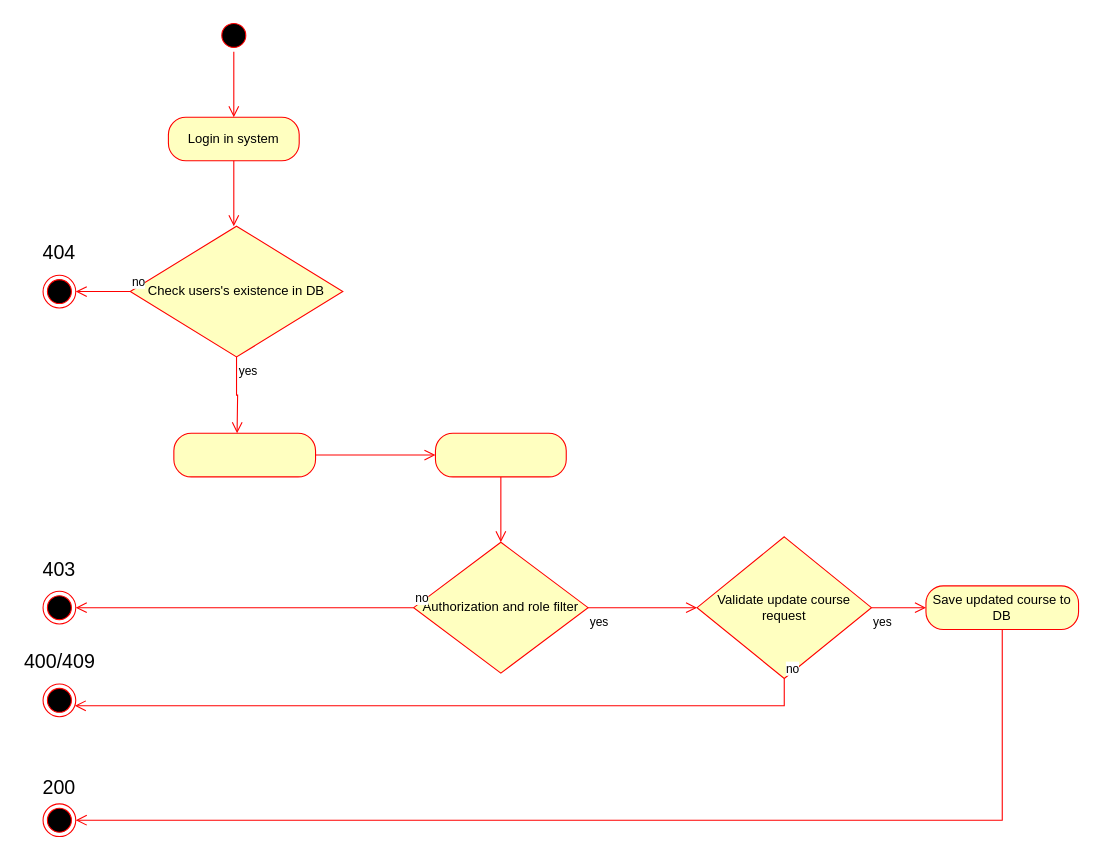
The diagram is 1098 pixels wide and 856 high, and some of its shapes have lost their labels. Each missing label, with the centre of its shape:
Receive access token: point 244,454
Update course: point 500,454
